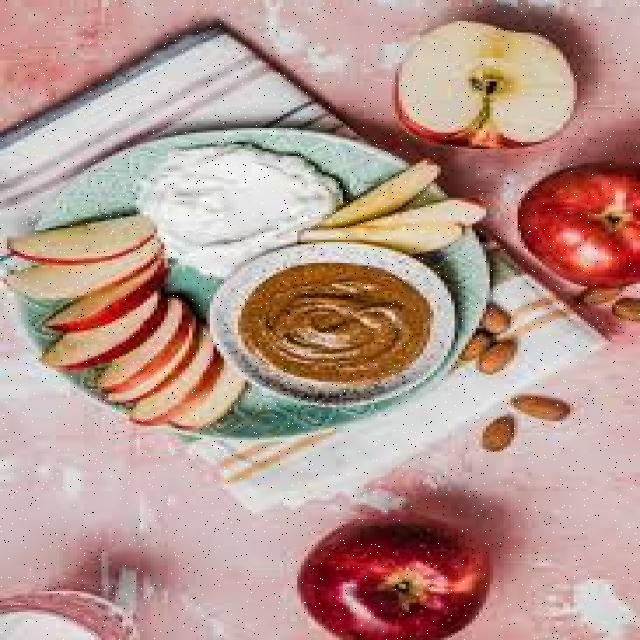Apple: (390, 22, 575, 157), (296, 522, 493, 639), (523, 171, 640, 283), (6, 210, 158, 266), (330, 154, 439, 224), (129, 340, 222, 419), (49, 302, 149, 372), (7, 255, 159, 295), (46, 267, 142, 328), (187, 364, 250, 430), (316, 219, 478, 241)
